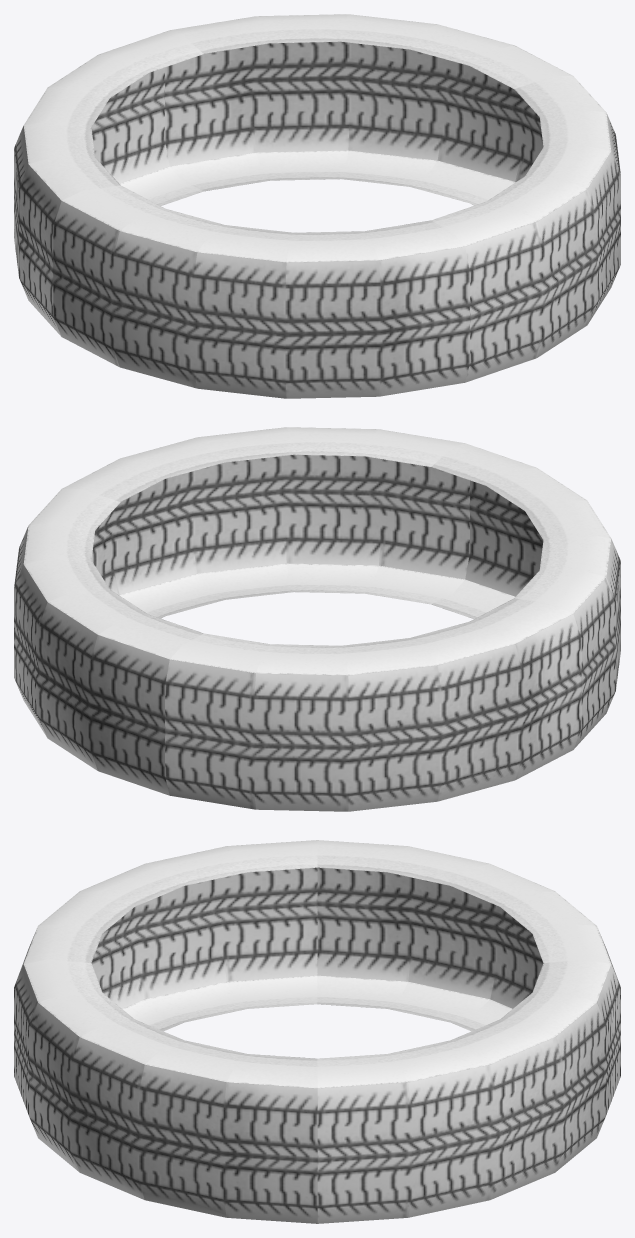
The model's file is Tire02.fbx.
3 renders of one model, top to bottom at view 1: azimuth 30°, elevation 25°; view 2: azimuth 150°, elevation 25°; view 3: azimuth 270°, elevation 25°, orthographic.
Parts seen in each view (by area): view 1: polySurface7; view 2: polySurface7; view 3: polySurface7.
Part boxes in pixels (x1,y1,x2,y2): polySurface7: [14, 14, 620, 398]; polySurface7: [14, 427, 620, 811]; polySurface7: [14, 840, 620, 1223].
Bounding box in the file's own units: 75.32 × 19.91 × 75.32.
